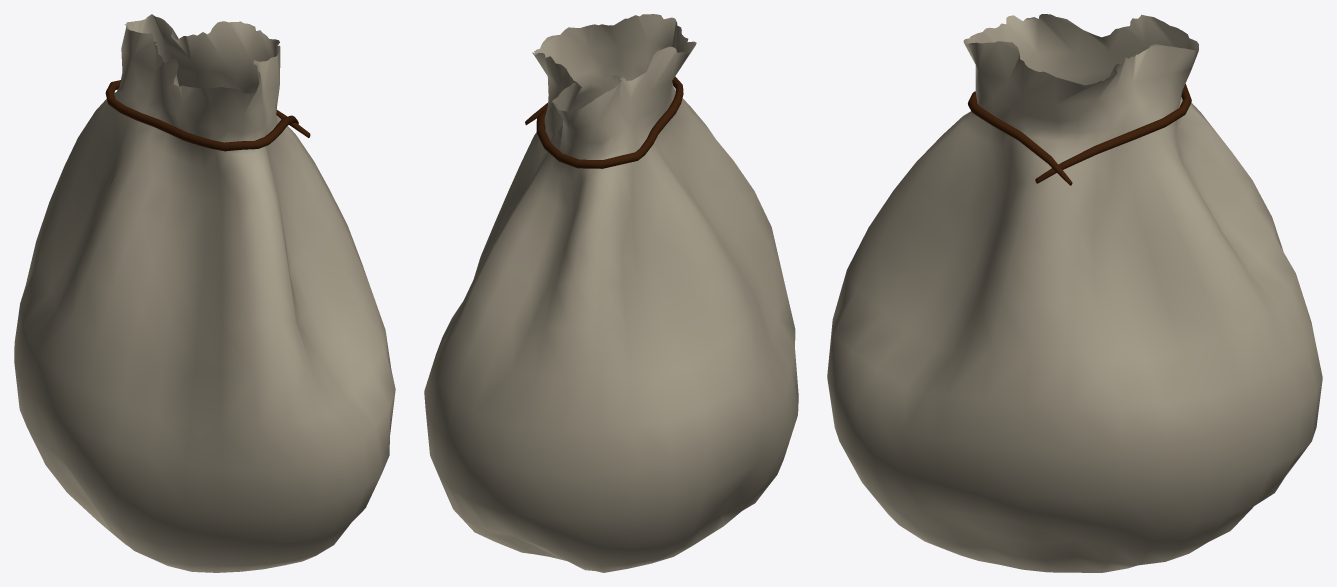
File: bag.glb
The picture shows the model from 3 angles, left to right: view 1: azimuth 30°, elevation 25°; view 2: azimuth 150°, elevation 25°; view 3: azimuth 270°, elevation 25°; orthographic projection. The views are drawn at different scales.
Parts seen in each view (by area): view 1: Bag, String; view 2: Bag, String; view 3: Bag, String.
Boxes of the visible parts, x1,y1,x2,y2 form: Bag: (14,14,395,572); String: (105,80,310,151); Bag: (424,14,798,572); String: (525,76,683,168); Bag: (827,14,1322,572); String: (968,84,1191,185).
Bounding box in the file's own units: 0.2811 × 0.4314 × 0.3826.
